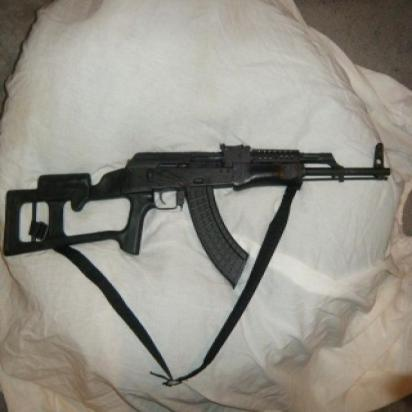Gun: (2, 136, 392, 290)
